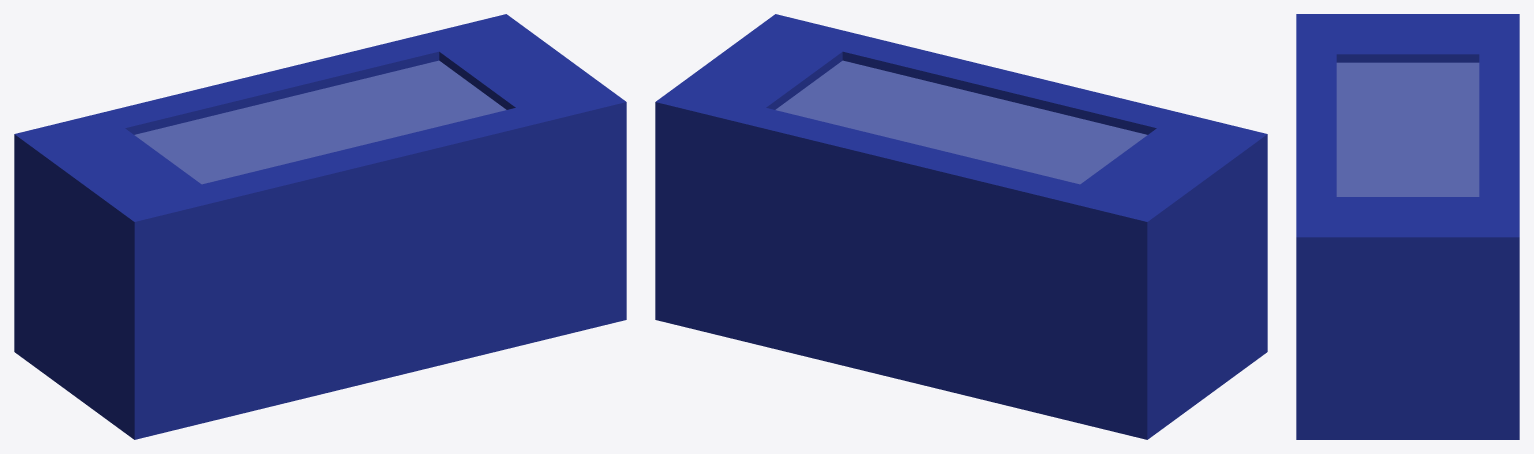
File: TissuiBox.fbx
3 renders of one model, left to right at view 1: azimuth 30°, elevation 25°; view 2: azimuth 150°, elevation 25°; view 3: azimuth 270°, elevation 25°, orthographic. The views are drawn at different scales.
Visible parts, largest first — view 1: Cube; view 2: Cube; view 3: Cube.
Part boxes in pixels (<box>): Cube: <box>14,14,626,439</box>; Cube: <box>655,14,1267,439</box>; Cube: <box>1296,14,1519,439</box>.
Size of the model in its own units: 473 by 200 by 200.
